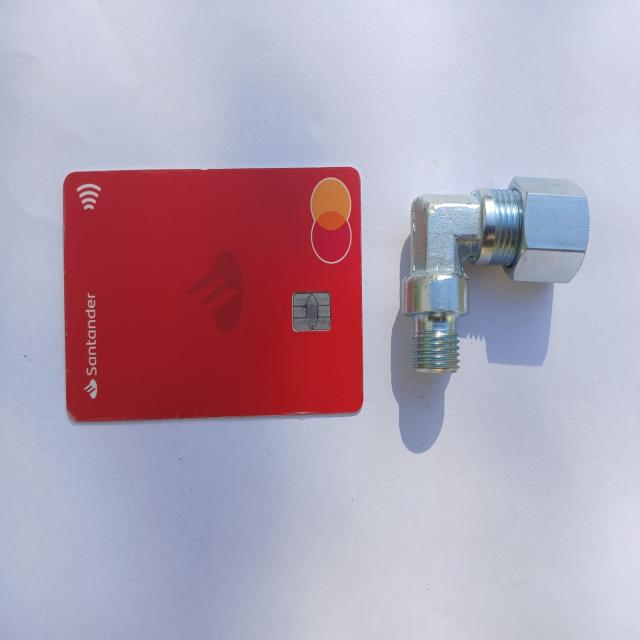cartao: (64, 166, 363, 420)
rosca_externa: (402, 175, 588, 373)
